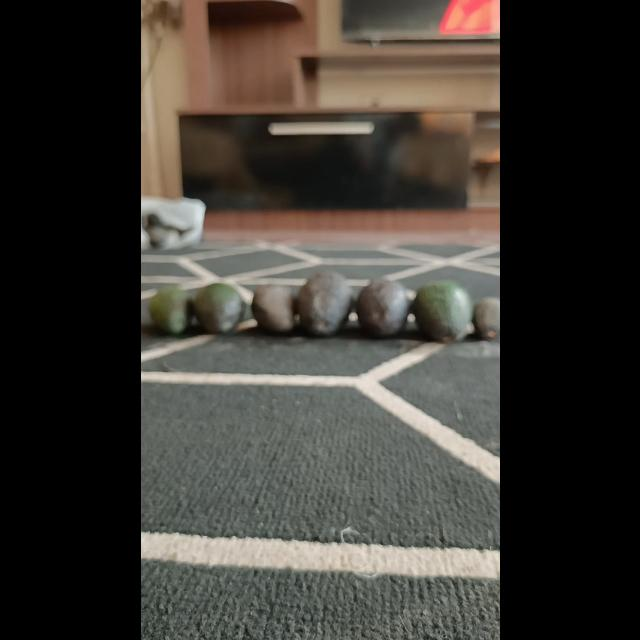Primera: (412, 278, 472, 342), (296, 269, 352, 337), (356, 278, 410, 338)
Segunda: (192, 282, 242, 334), (250, 284, 296, 332), (147, 285, 190, 335)
Tercera: (472, 296, 500, 340)
